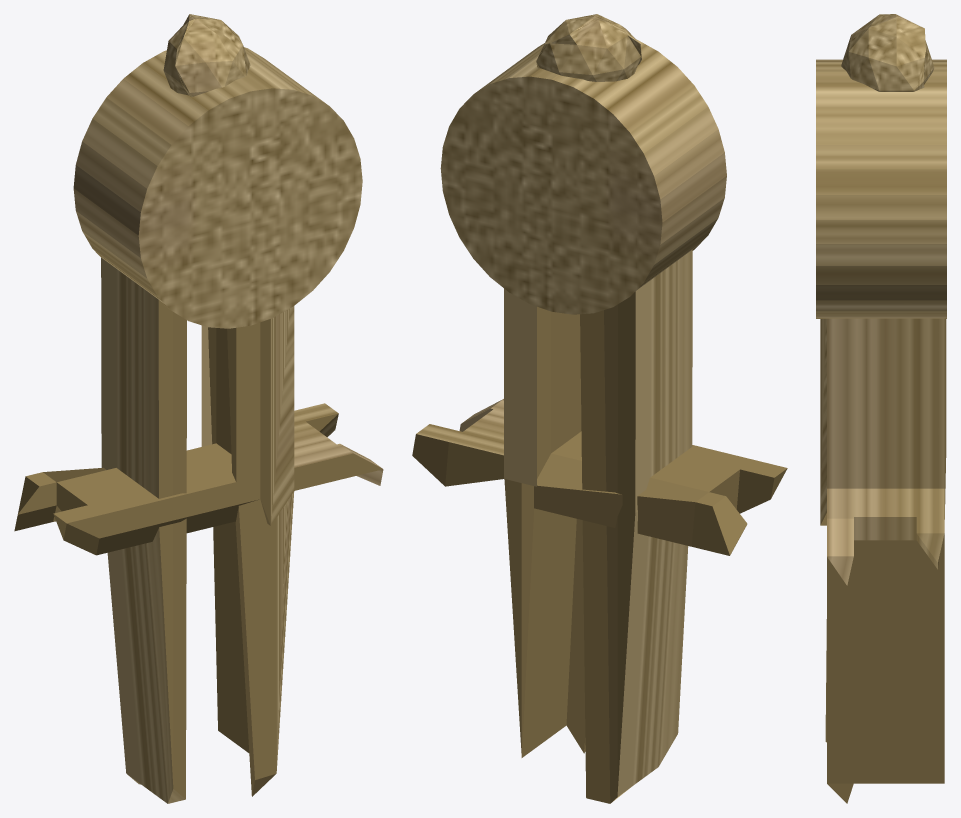
The model's file is goldkey2.glb.
The picture shows the model from 3 angles, left to right: view 1: azimuth 30°, elevation 25°; view 2: azimuth 150°, elevation 25°; view 3: azimuth 270°, elevation 25°; orthographic projection.
Parts seen in each view (by area): view 1: keymain-col, headkey-col, keydesp-col; view 2: keymain-col, headkey-col, keydesp-col; view 3: keymain-col, headkey-col, keydesp-col.
Boxes of the visible parts, left/top/right/bottom form: keymain-col: left=14, top=257, right=383, bottom=803; headkey-col: left=73, top=47, right=362, bottom=328; keydesp-col: left=163, top=14, right=250, bottom=96; keymain-col: left=412, top=249, right=787, bottom=803; headkey-col: left=440, top=39, right=726, bottom=314; keydesp-col: left=536, top=14, right=641, bottom=81; keymain-col: left=820, top=318, right=946, bottom=803; headkey-col: left=816, top=59, right=946, bottom=318; keydesp-col: left=841, top=14, right=934, bottom=91.
Size of the model in its own units: 0.0943 by 0.2117 by 0.0324.
Materials: 1 (1 with a texture image).
